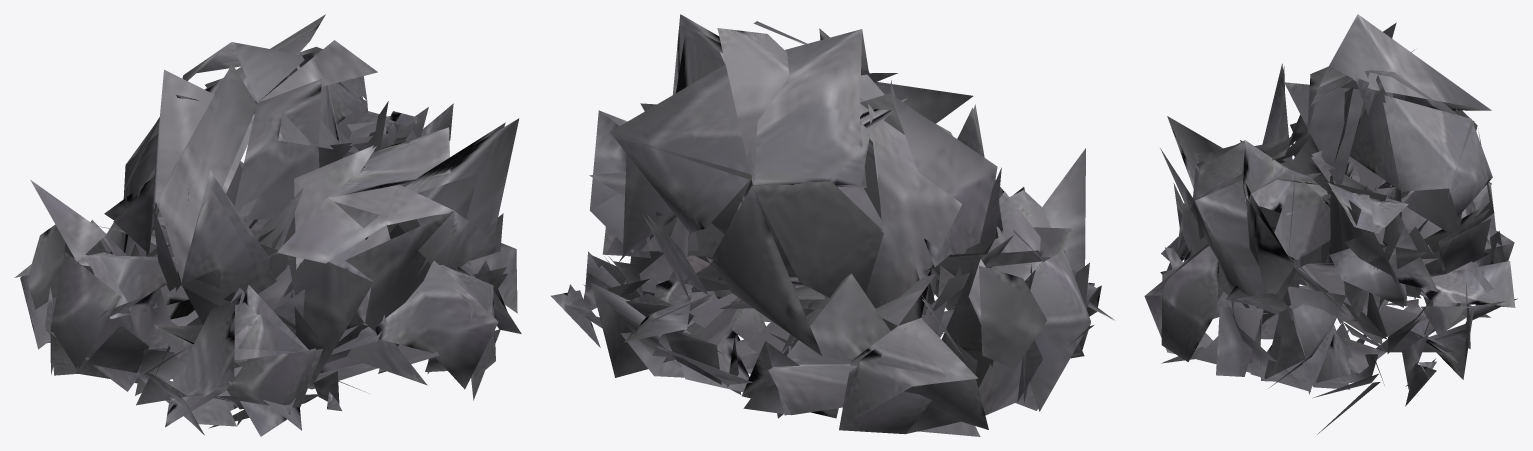
File: node-rock-lod1.glb
3 views of the same model, side by side, from view 1: azimuth 30°, elevation 25°; view 2: azimuth 150°, elevation 25°; view 3: azimuth 270°, elevation 25° (orthographic). The views are drawn at different scales.
Visible parts, largest first — view 1: node-rock; view 2: node-rock; view 3: node-rock.
Boxes of the visible parts, bbox=[...] form: node-rock: bbox=[14, 14, 521, 436]; node-rock: bbox=[551, 14, 1113, 436]; node-rock: bbox=[1144, 14, 1517, 434].
Bounding box in the file's own units: 2.55 × 1.82 × 1.97.
Materials: 1 (1 with a texture image).
